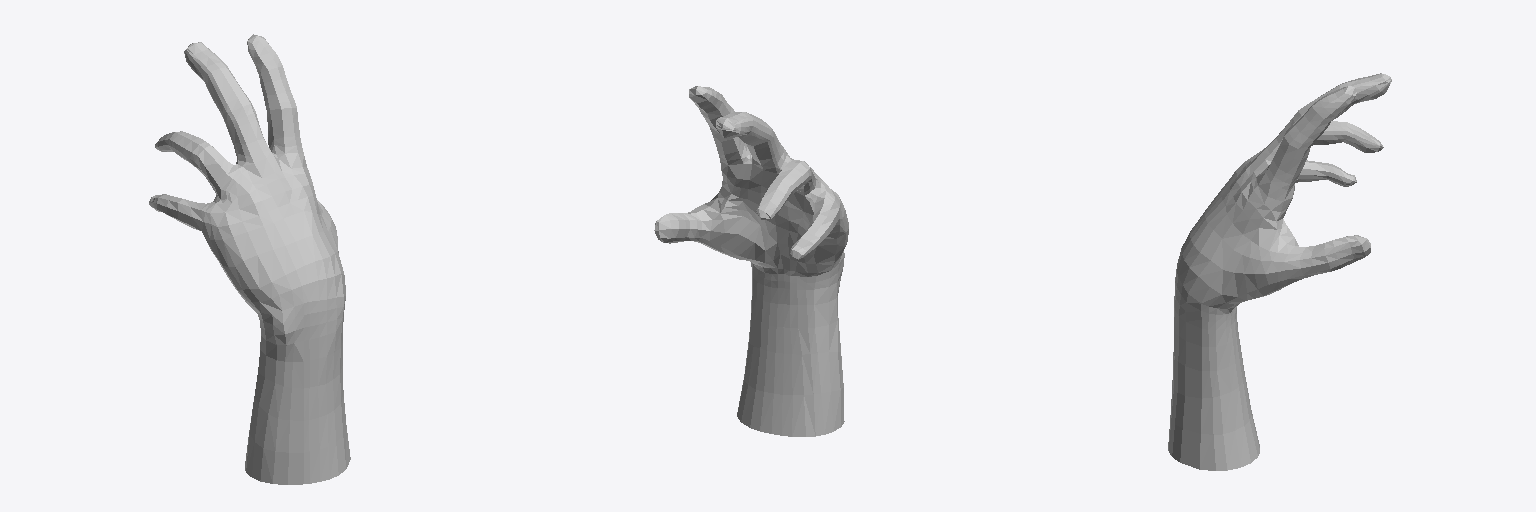
File: handObj.obj
3 views of the same model, side by side, from view 1: azimuth 30°, elevation 25°; view 2: azimuth 150°, elevation 25°; view 3: azimuth 270°, elevation 25° (orthographic).
Parts seen in each view (by area): view 1: hand; view 2: hand; view 3: hand.
Part boxes in pixels (x1,y1,x2,y2): hand: (149, 34, 350, 484); hand: (654, 86, 848, 436); hand: (1168, 73, 1391, 470).
Bounding box in the file's own units: 3.28 × 7.75 × 4.2.